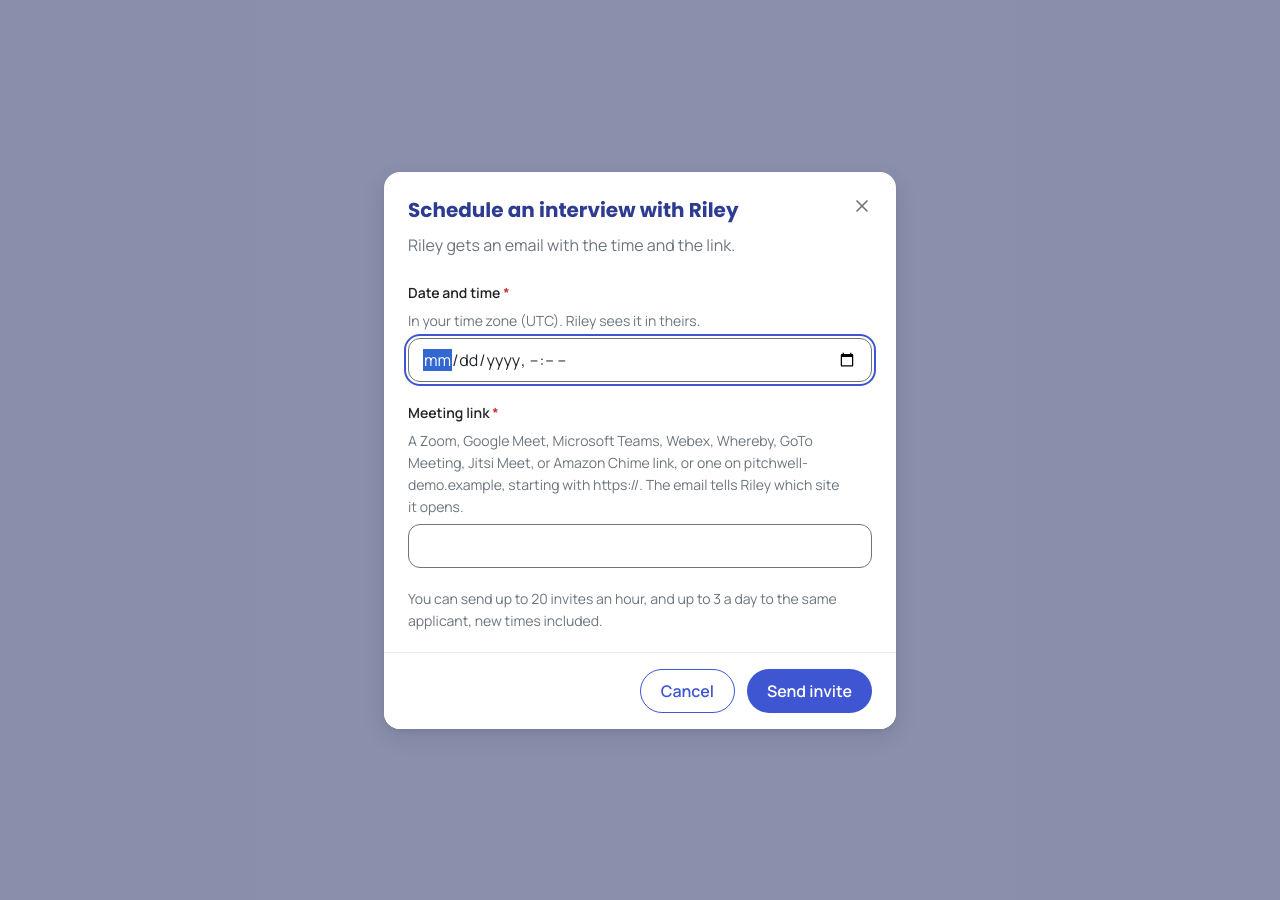
Test: InterviewDialog › shows the api's field error for a link it doesn't accept
Type "2026-11-02T15:00" into the field labelled "Date and time *".
click(640, 360); type("2026-11-02T15:00")  # box [408,338,872,382]
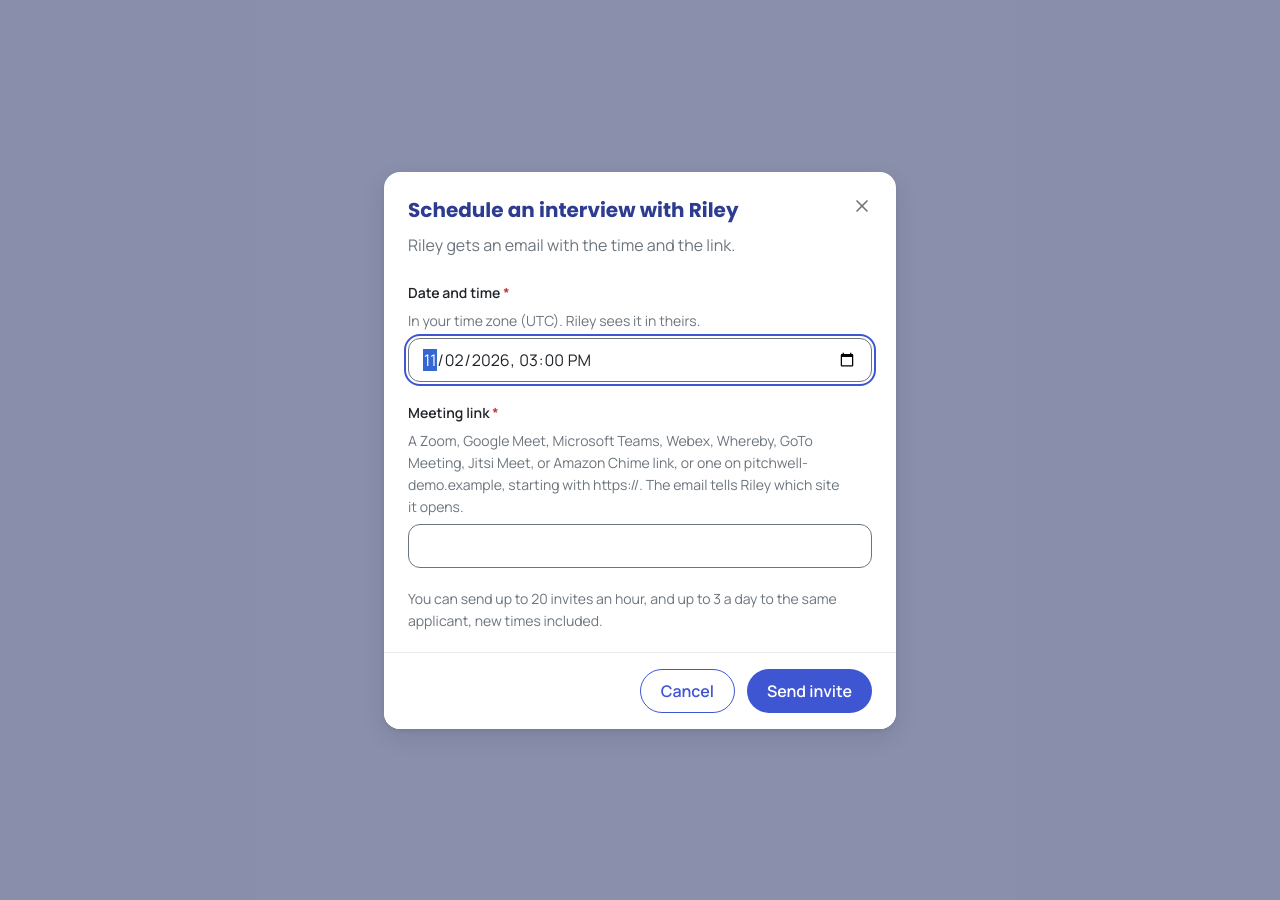
Type "https://evil.example/login" into the field labelled "Meeting link *".
click(640, 546); type("https://evil.example/login")  # box [408,524,872,568]
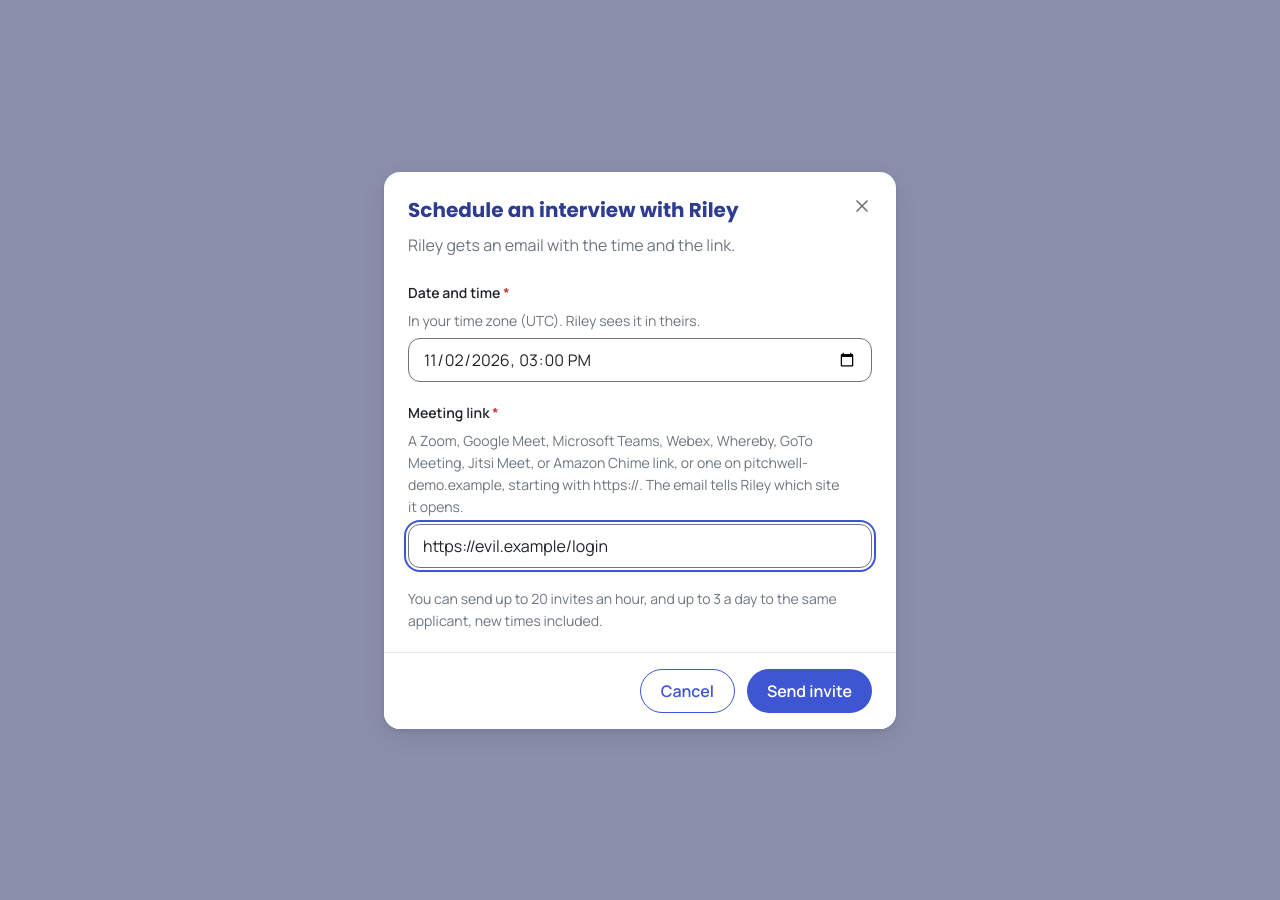
Click the button "Send invite".
click(809, 690)  # box [747,668,872,712]
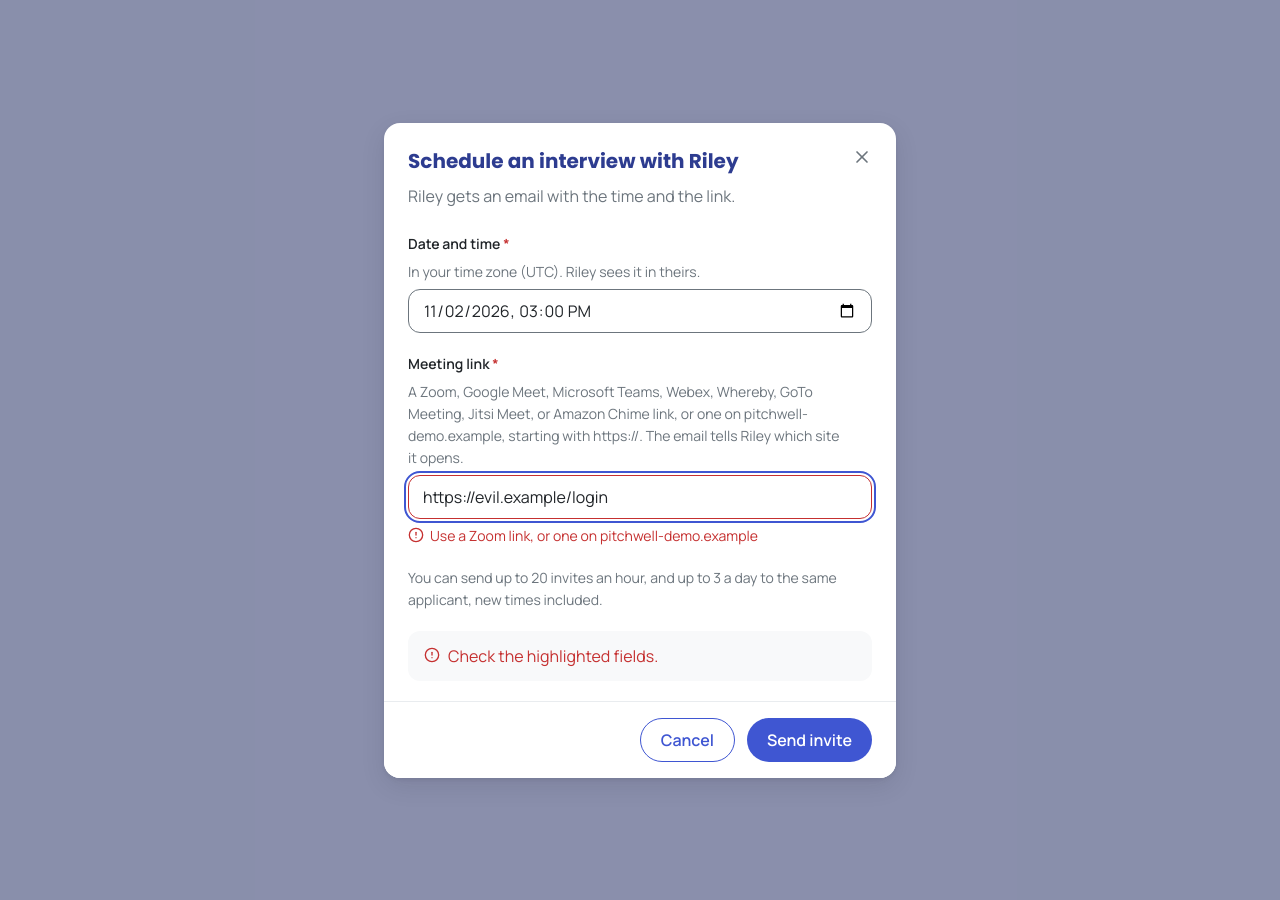
Expected: the text "Use a Zoom link, or one on pitchwell-demo.example" is shown, [430,524,758,546]
